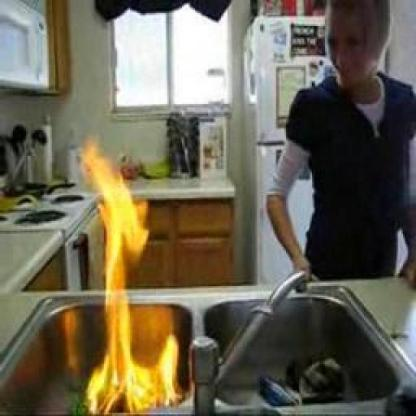fire: (80, 145, 179, 410)
